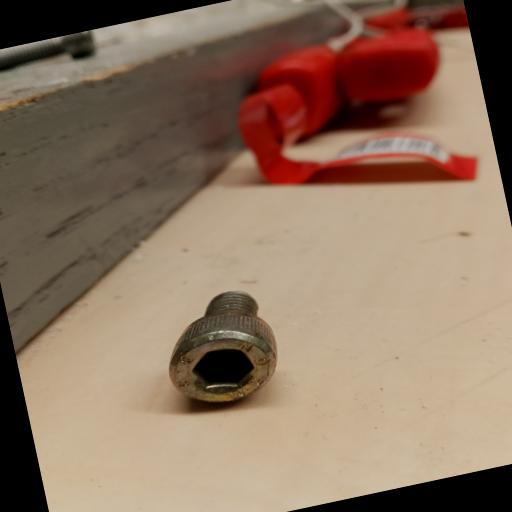Hex-Allen: (153, 307, 286, 423)
